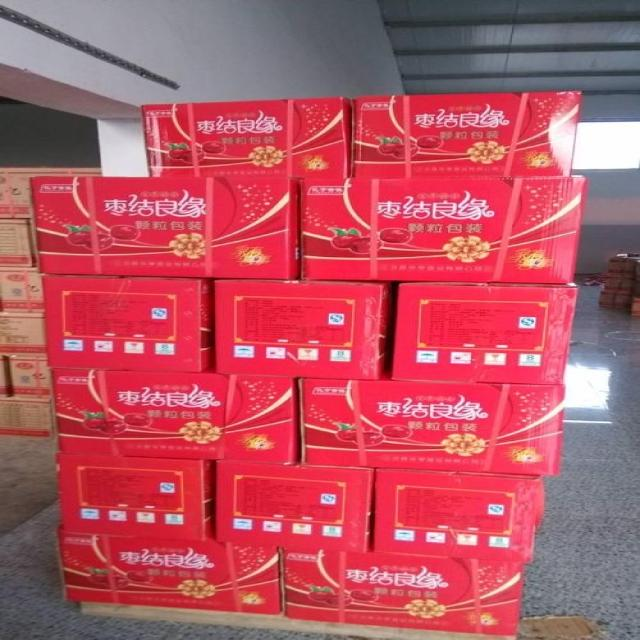box: (300, 175, 588, 284), (298, 367, 564, 475), (27, 175, 301, 279), (51, 365, 300, 465), (279, 543, 524, 637), (56, 525, 282, 615), (351, 89, 584, 175), (389, 283, 580, 385), (214, 279, 393, 380), (41, 275, 215, 373), (141, 97, 349, 177), (374, 469, 545, 563), (215, 460, 376, 554), (55, 452, 214, 540), (0, 166, 101, 217), (0, 397, 54, 440), (0, 312, 45, 356), (0, 267, 42, 313), (0, 218, 37, 266), (10, 356, 51, 398), (605, 258, 636, 278), (604, 276, 635, 294), (0, 356, 13, 398), (599, 293, 630, 307), (616, 253, 640, 261), (631, 298, 640, 315)
